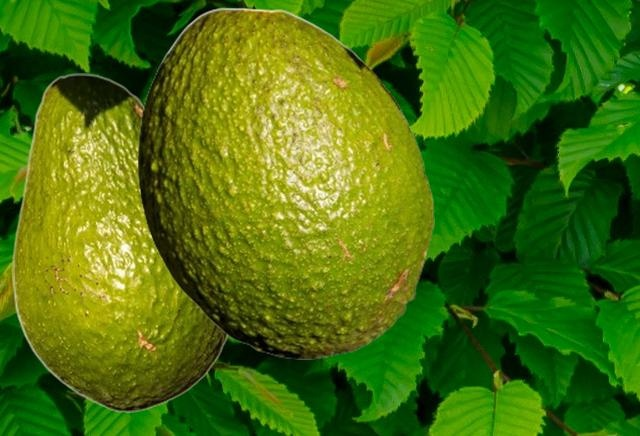avocado: (137, 7, 433, 358), (12, 73, 229, 411)
